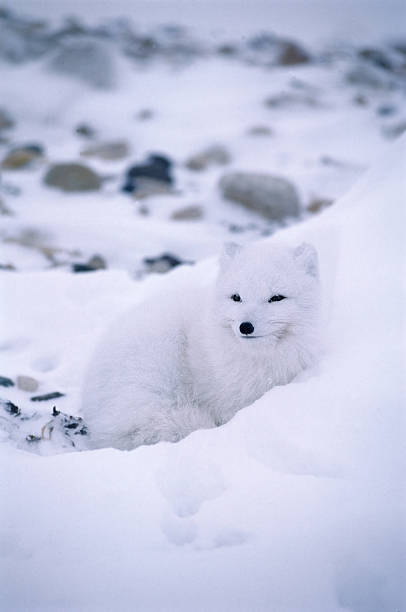arcticfox: (208, 249, 303, 351)
